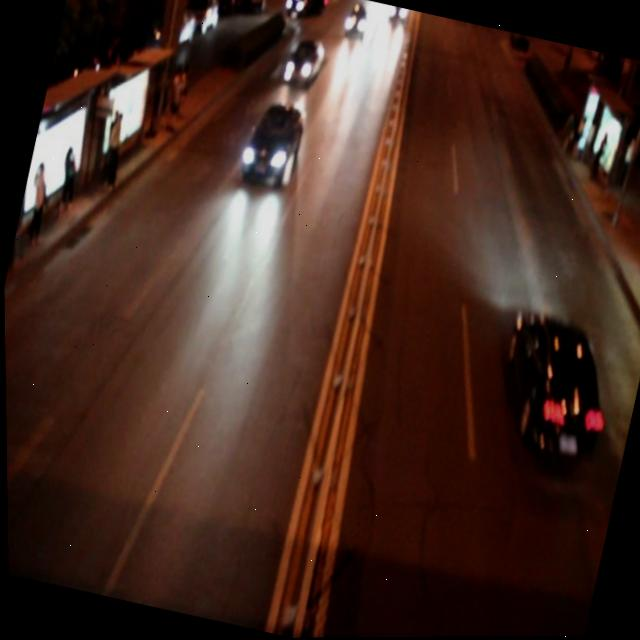car: (487, 295, 622, 460), (236, 88, 310, 187), (281, 26, 328, 87), (340, 0, 370, 32)
